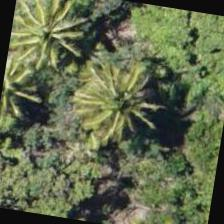Kelapa_Sawit: (62, 46, 165, 148), (5, 0, 99, 83), (0, 37, 57, 134)
